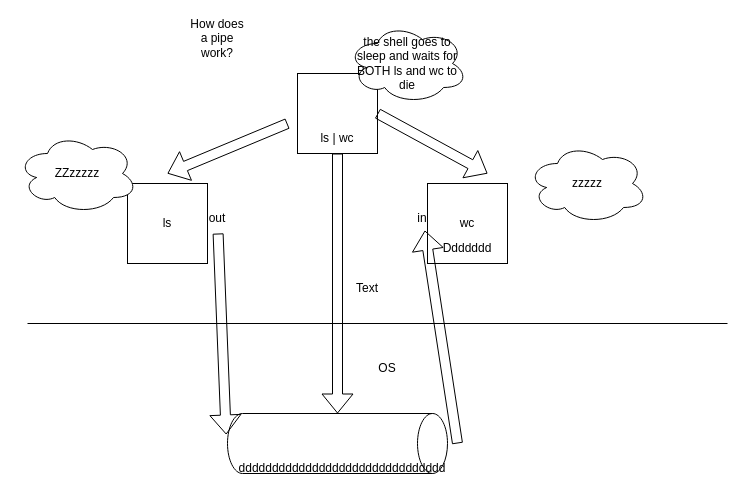
Some shapes in this 746 by 501 pixel diagram are drawn without their labels. The box of each missing label's shape, as (x1, y1, x2, y2) in pixels:
bash: (296, 72, 378, 154)
pipe = buffer in the OS, size=4096: (226, 412, 448, 474)
